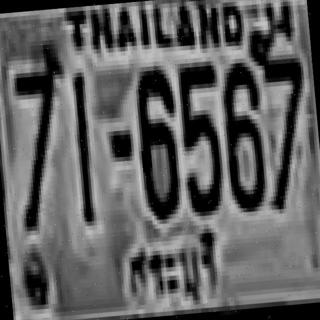N01: (69, 68, 94, 222)
N05: (174, 56, 223, 212)
N06: (131, 60, 180, 216), (218, 57, 267, 209)
N07: (7, 44, 72, 227), (258, 49, 312, 205)
P60: (122, 228, 226, 314)
